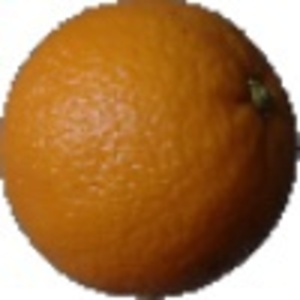laranja: (1, 3, 295, 295)
